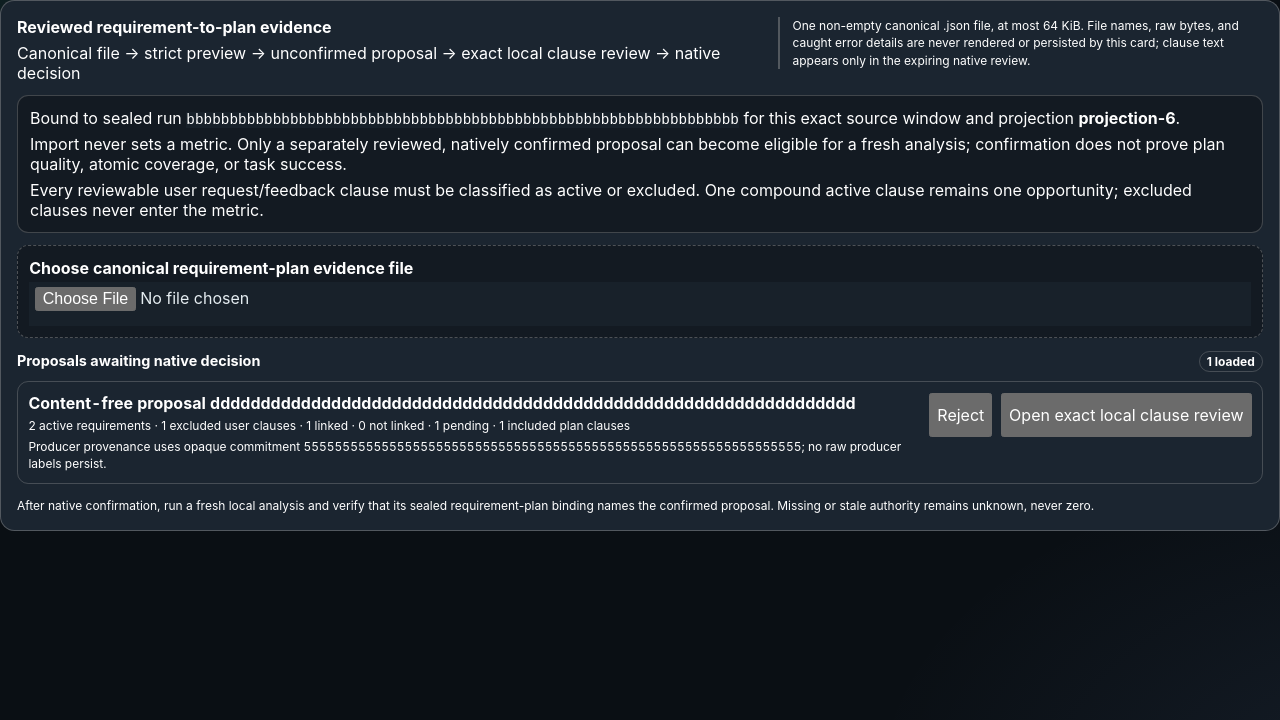
Test: RequirementPlanEvidencePanel › clears ephemeral clauses and acknowledgement when a review refresh fails
Click the button "Open exact local clause review" at [1126, 414], box 1001,392 -> 1252,436
(page scrolled)
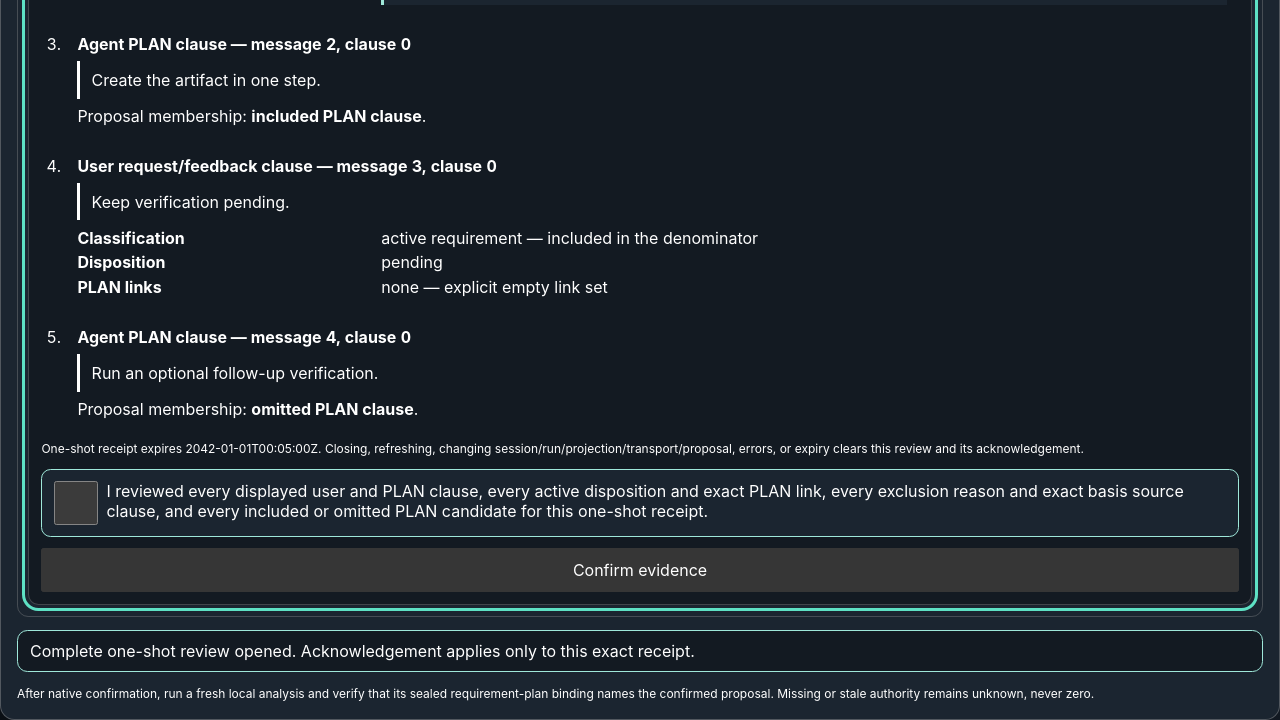
Click the checkbox labelled "I reviewed every displayed user and PLAN clause" at [76, 503], box 54,481 -> 98,525
(page scrolled)
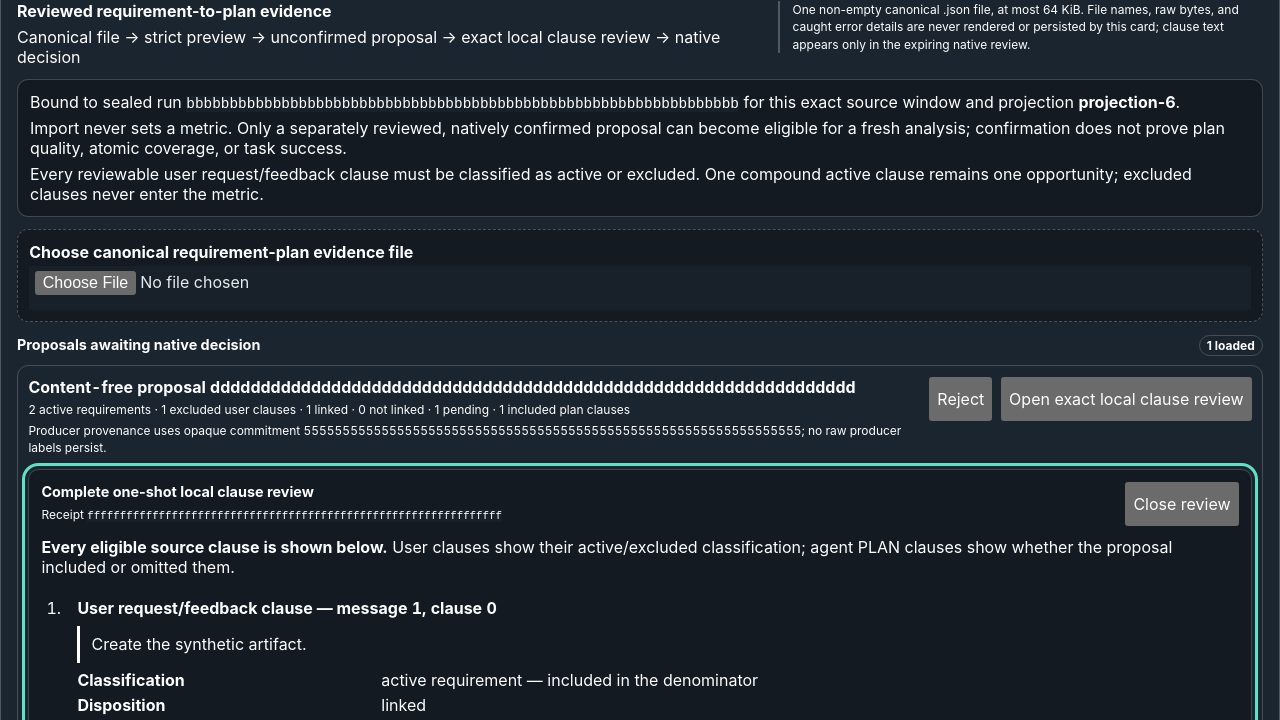
Click the button "Open exact local clause review" at [1126, 398], box 1001,376 -> 1252,420
(page scrolled)
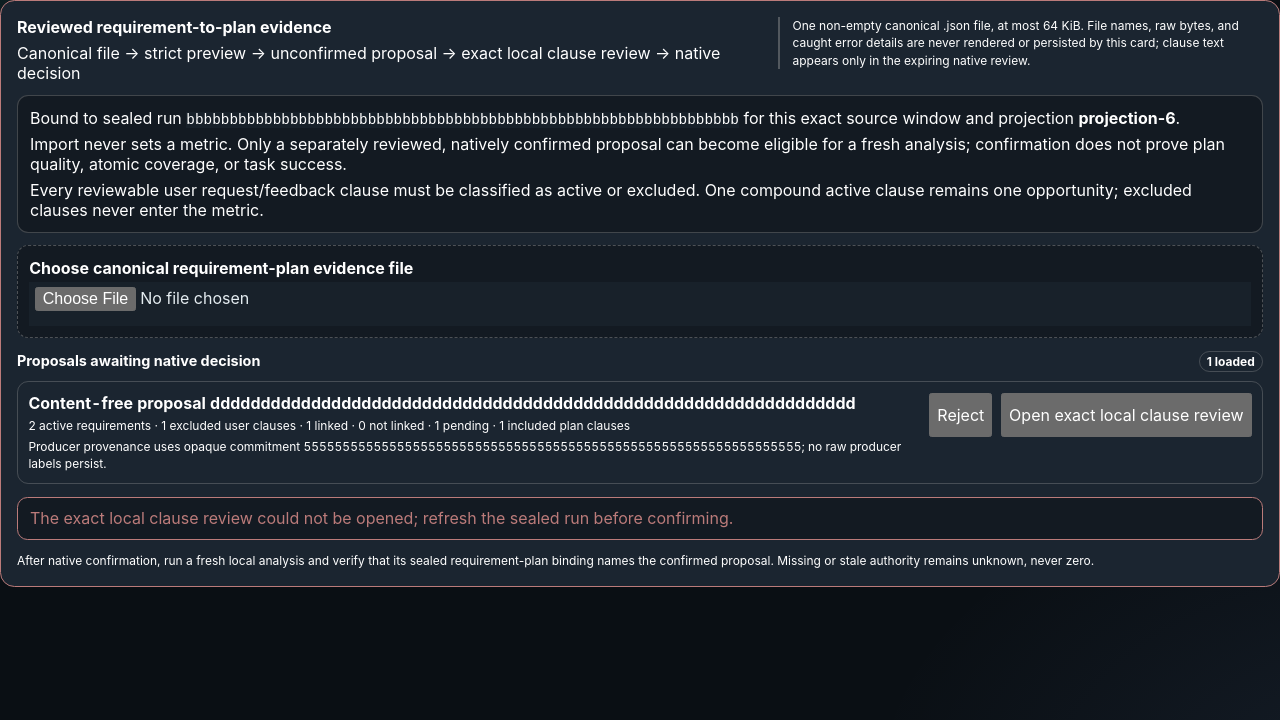
Expected: the text labelled "I reviewed every displayed user and PLAN clause" is not shown
Now the message shows "could not be opened", box 30,508 -> 733,528
Now the text "Create the synthetic artifact." is gone
